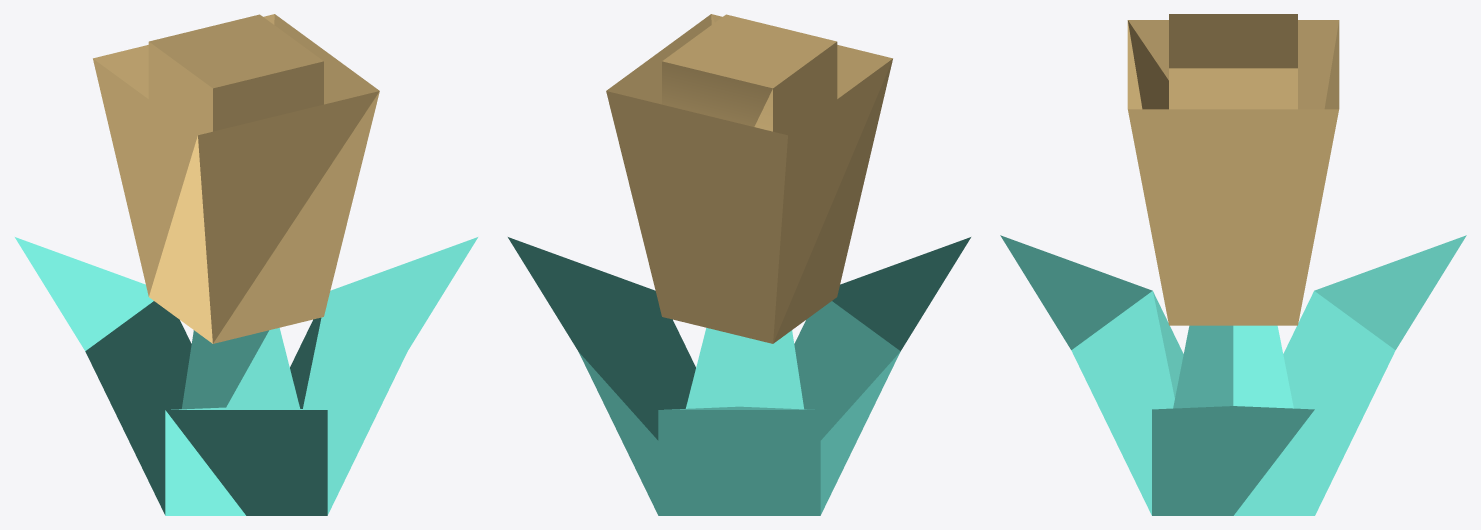
Rendered from flower.glb.
3 views of the same model, side by side, from view 1: azimuth 30°, elevation 25°; view 2: azimuth 150°, elevation 25°; view 3: azimuth 270°, elevation 25° (orthographic).
Visible parts, largest first — view 1: flower; view 2: flower; view 3: flower.
Boxes of the visible parts, left/top/right/bottom form: flower: left=15, top=14, right=477, bottom=515; flower: left=508, top=14, right=970, bottom=515; flower: left=1000, top=14, right=1466, bottom=515.
Bounding box in the file's own units: 0.1591 × 0.1925 × 0.1811.
